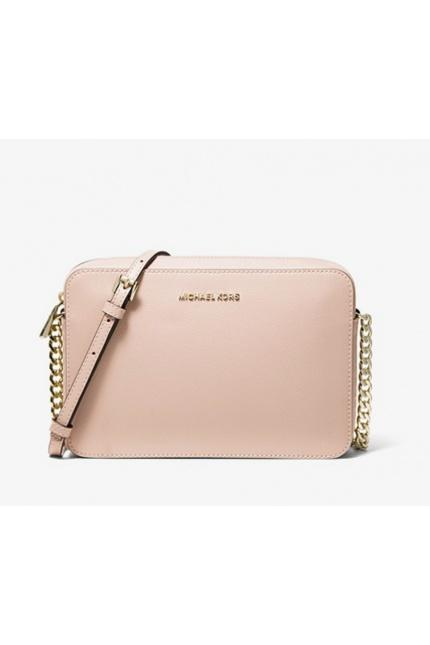MICHAEL-KORS: (178, 292, 239, 302)
